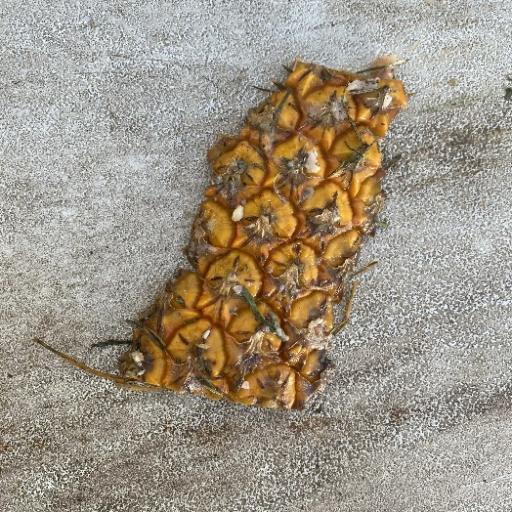Waste: (32, 52, 410, 412)
